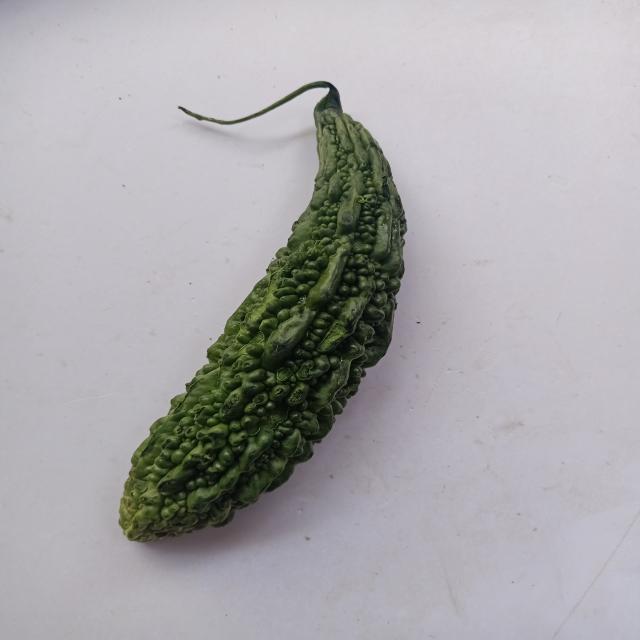Bitter Gourd: (90, 64, 423, 557)
